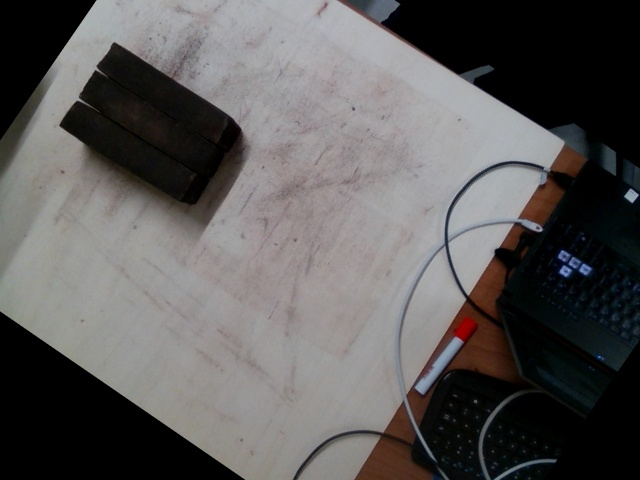brick-side: (98, 45, 230, 143), (82, 74, 214, 172), (61, 102, 193, 200)
